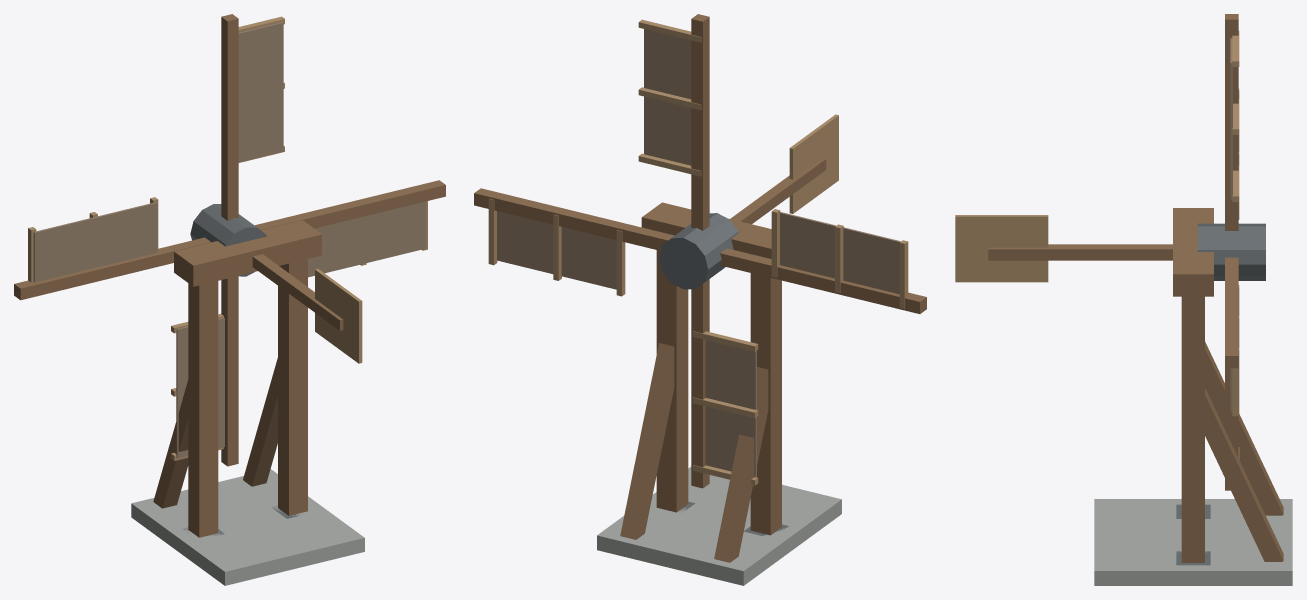
Rendered from vf_sail_wheel.glb.
3 renders of one model, left to right at view 1: azimuth 30°, elevation 25°; view 2: azimuth 150°, elevation 25°; view 3: azimuth 270°, elevation 25°, orthographic. The views are drawn at different scales.
Parts seen in each view (by area): view 1: Static_Oak, Rotor_Hide, Static_Stone, Rotor_Oak, Static_OakLight, Rotor_Iron, Rotor_OakLight; view 2: Static_Oak, Rotor_Hide, Rotor_Oak, Static_Stone, Rotor_OakLight, Rotor_Iron, Static_OakLight; view 3: Static_Oak, Static_Stone, Static_OakLight, Rotor_Oak, Rotor_Iron, Rotor_OakLight, Rotor_Hide.
Boxes of the visible parts, x1=… form: Static_Oak: x1=153, y1=220, x2=343, y2=537; Rotor_Hide: x1=33, y1=22, x2=426, y2=458; Static_Stone: x1=131, y1=469, x2=364, y2=585; Rotor_Oak: x1=14, y1=14, x2=445, y2=466; Static_OakLight: x1=315, y1=269, x2=362, y2=363; Rotor_Iron: x1=190, y1=204, x2=266, y2=276; Rotor_OakLight: x1=28, y1=16, x2=427, y2=460; Static_Oak: x1=620, y1=158, x2=826, y2=562; Rotor_Hide: x1=497, y1=29, x2=900, y2=477; Rotor_Oak: x1=474, y1=14, x2=926, y2=488; Static_Stone: x1=597, y1=467, x2=841, y2=585; Rotor_OakLight: x1=488, y1=19, x2=908, y2=485; Rotor_Iron: x1=659, y1=213, x2=738, y2=289; Static_OakLight: x1=789, y1=114, x2=838, y2=213; Static_Oak: x1=988, y1=208, x2=1283, y2=562; Static_Stone: x1=1094, y1=499, x2=1292, y2=585; Static_OakLight: x1=955, y1=215, x2=1048, y2=282; Rotor_Oak: x1=1225, y1=14, x2=1238, y2=490; Rotor_Iron: x1=1197, y1=223, x2=1265, y2=280; Rotor_OakLight: x1=1232, y1=31, x2=1239, y2=459; Rotor_Hide: x1=1230, y1=38, x2=1232, y2=412.
Size of the model in its own units: 3.8 by 4.3 by 2.47.
